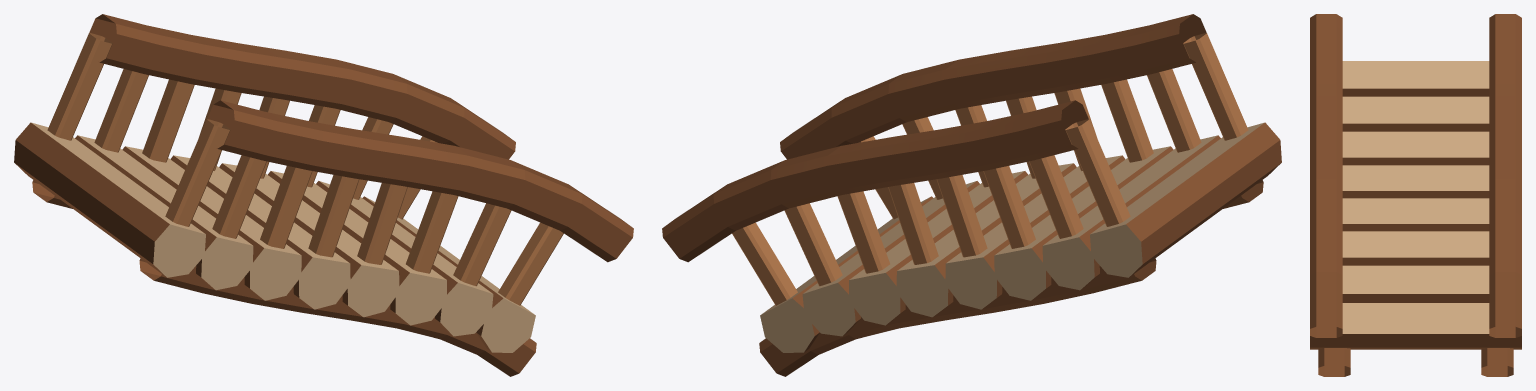
Rendered from Track_Bridge_Incline_Sharp_Gentle_Floating.obj.
The picture shows the model from 3 angles, left to right: view 1: azimuth 30°, elevation 25°; view 2: azimuth 150°, elevation 25°; view 3: azimuth 270°, elevation 25°; orthographic projection. The views are drawn at different scales.
Visible parts, largest first — view 1: Bridge_Rail, Bridge_Rail_Support, Log_Plank_End, Log_Plank_Bark, Log_Plank_Top, Bridge_Support_Beam; view 2: Bridge_Rail, Bridge_Rail_Support, Log_Plank_End, Log_Plank_Bark, Log_Plank_Top, Bridge_Support_Beam; view 3: Log_Plank_Top, Bridge_Rail, Log_Plank_Bark, Bridge_Support_Beam.
Boxes of the visible parts, <box> form: Bridge_Rail: <box>89,14,633,262</box>; Bridge_Rail_Support: <box>47,33,563,305</box>; Log_Plank_End: <box>153,224,535,352</box>; Log_Plank_Bark: <box>14,122,503,351</box>; Log_Plank_Top: <box>31,122,534,314</box>; Bridge_Support_Beam: <box>32,180,536,376</box>; Bridge_Rail: <box>662,14,1206,262</box>; Bridge_Rail_Support: <box>732,33,1248,305</box>; Log_Plank_End: <box>760,224,1142,352</box>; Log_Plank_Bark: <box>792,122,1281,351</box>; Log_Plank_Top: <box>761,122,1264,314</box>; Bridge_Support_Beam: <box>759,180,1263,376</box>; Log_Plank_Top: <box>1342,61,1489,333</box>; Bridge_Rail: <box>1310,14,1521,337</box>; Log_Plank_Bark: <box>1310,88,1521,349</box>; Bridge_Support_Beam: <box>1318,348,1513,376</box>.
Size of the model in its own units: 2.61 by 1.75 by 1.3.
